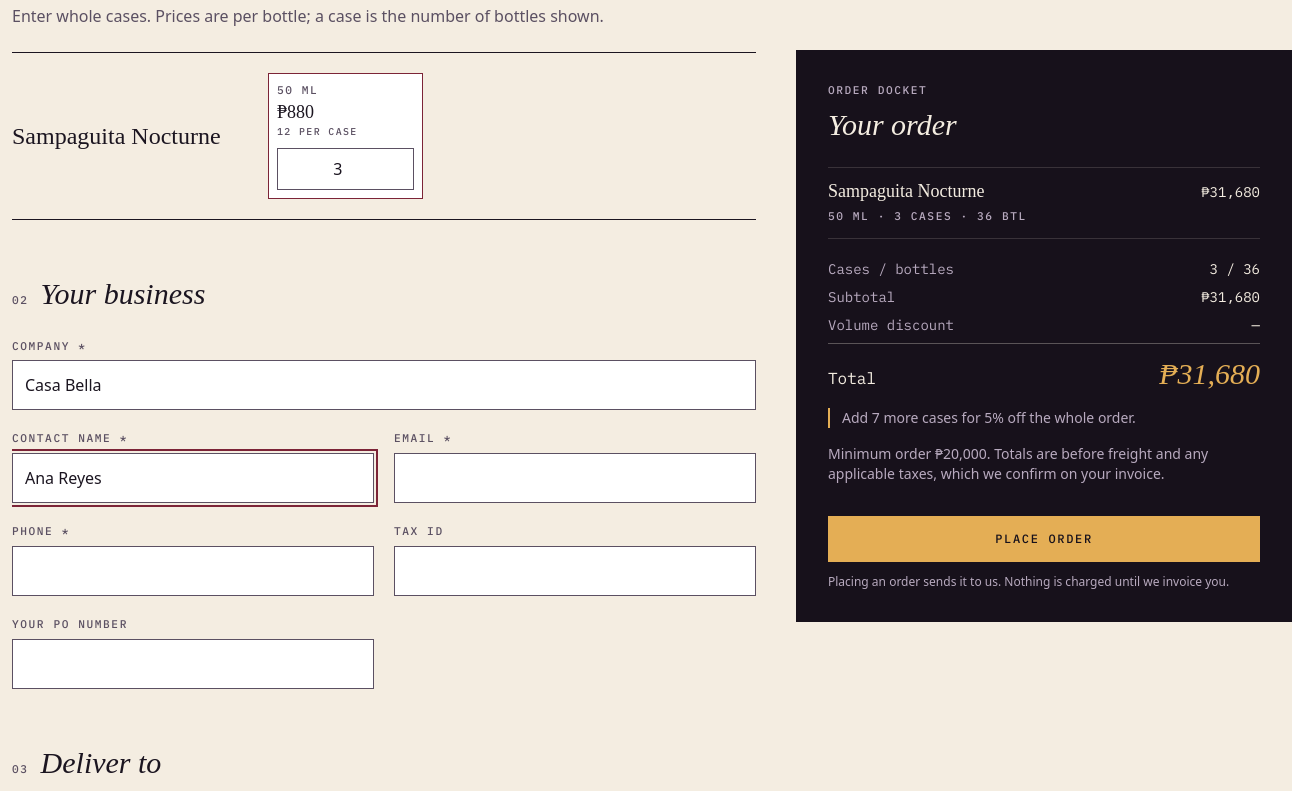
Test: OrderForm: invoice mode › keeps the original behaviour: no redirect, a confirmation that says nothing was charged
This screenshot has width=1292, height=791.
Earlier steps of the test are not shown.
In the field labelled "Email *": (575, 478) [394,453,756,503], type "ana@casabella.example"
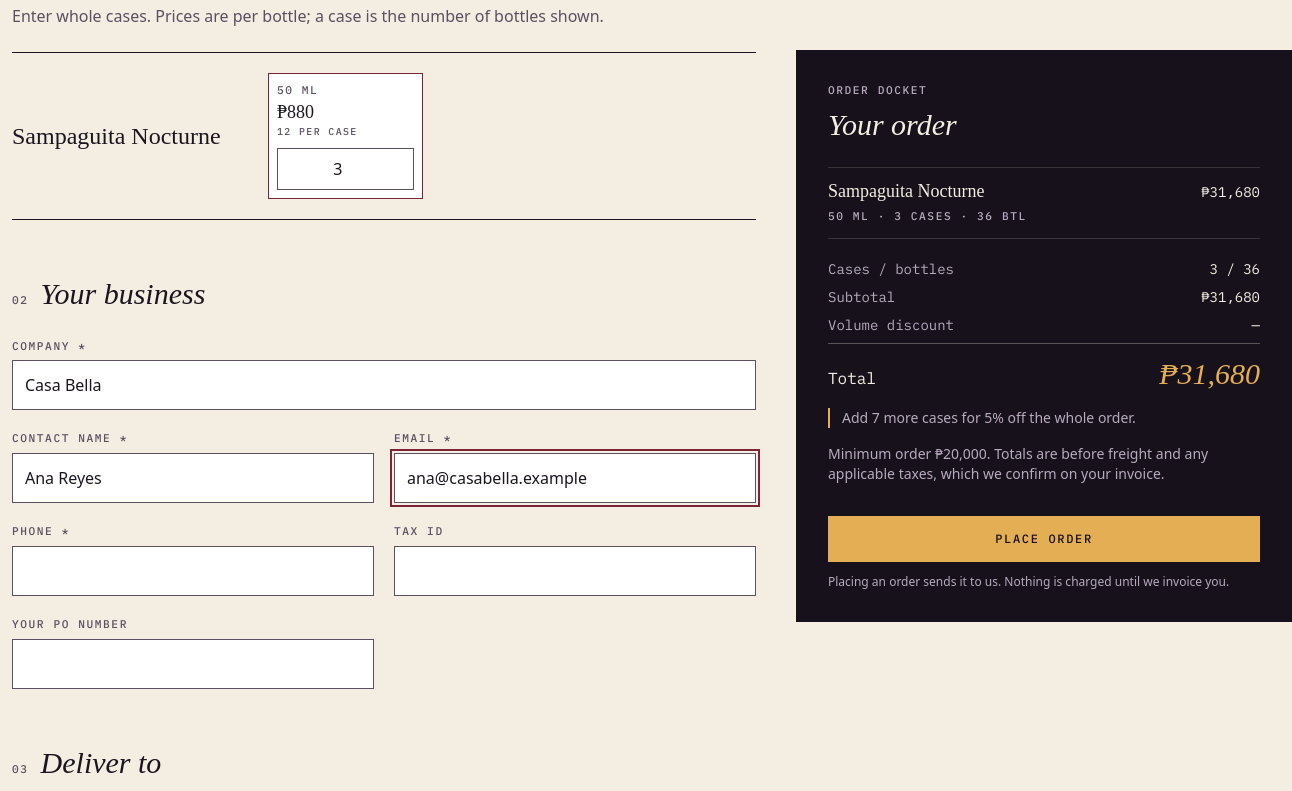
In the field labelled "Phone *": (193, 571) [12,546,374,596], type "0917 123 4567"
(page scrolled)
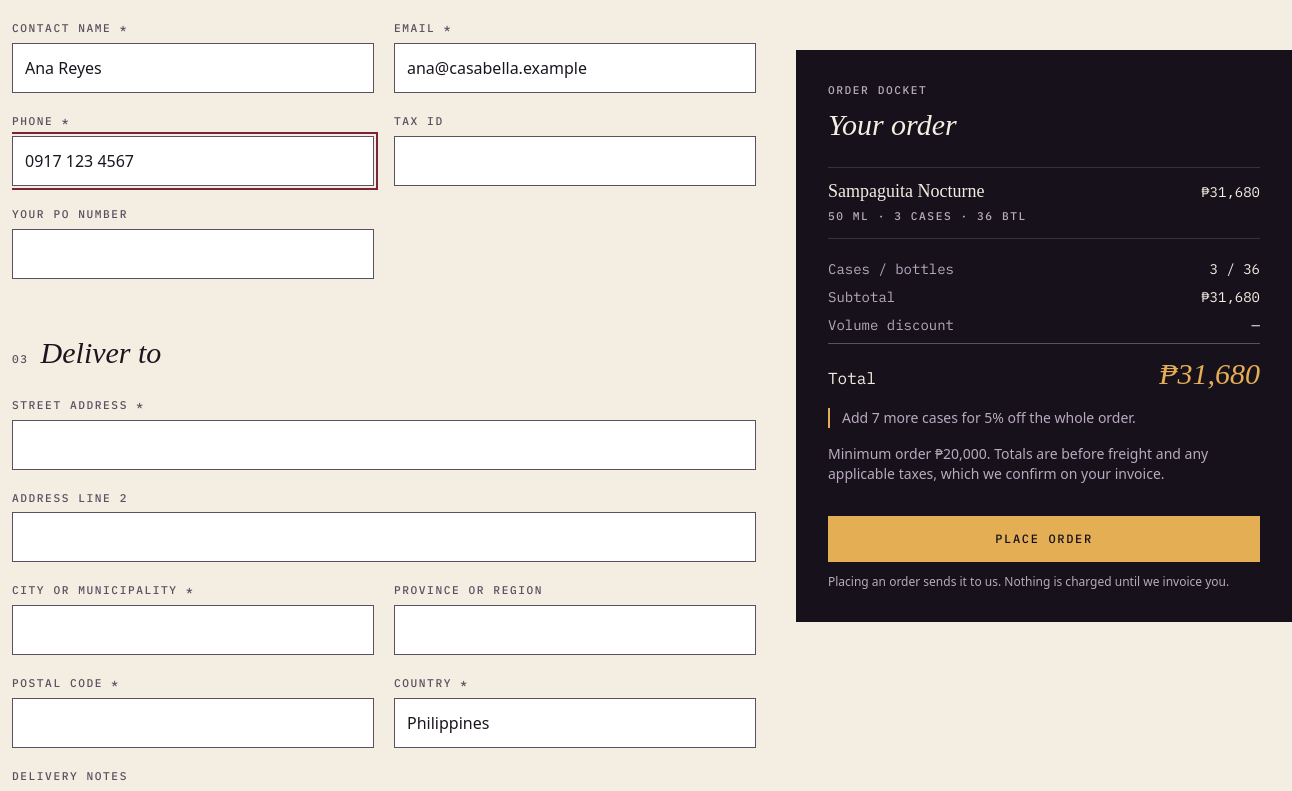
In the field labelled "Street address *": (384, 445) [12,420,756,470], type "1 Rizal St"
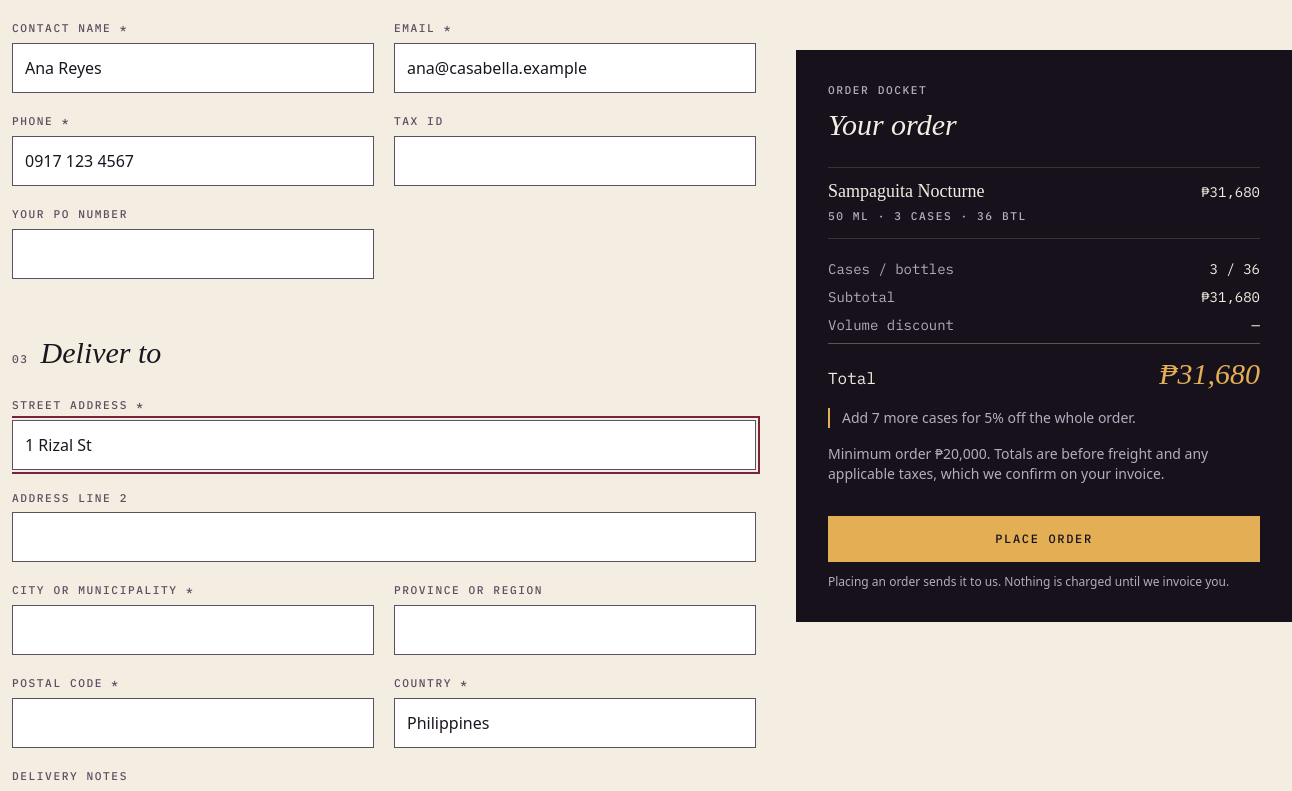
In the field labelled "City or municipality *": (193, 630) [12,605,374,655], type "Cebu City"
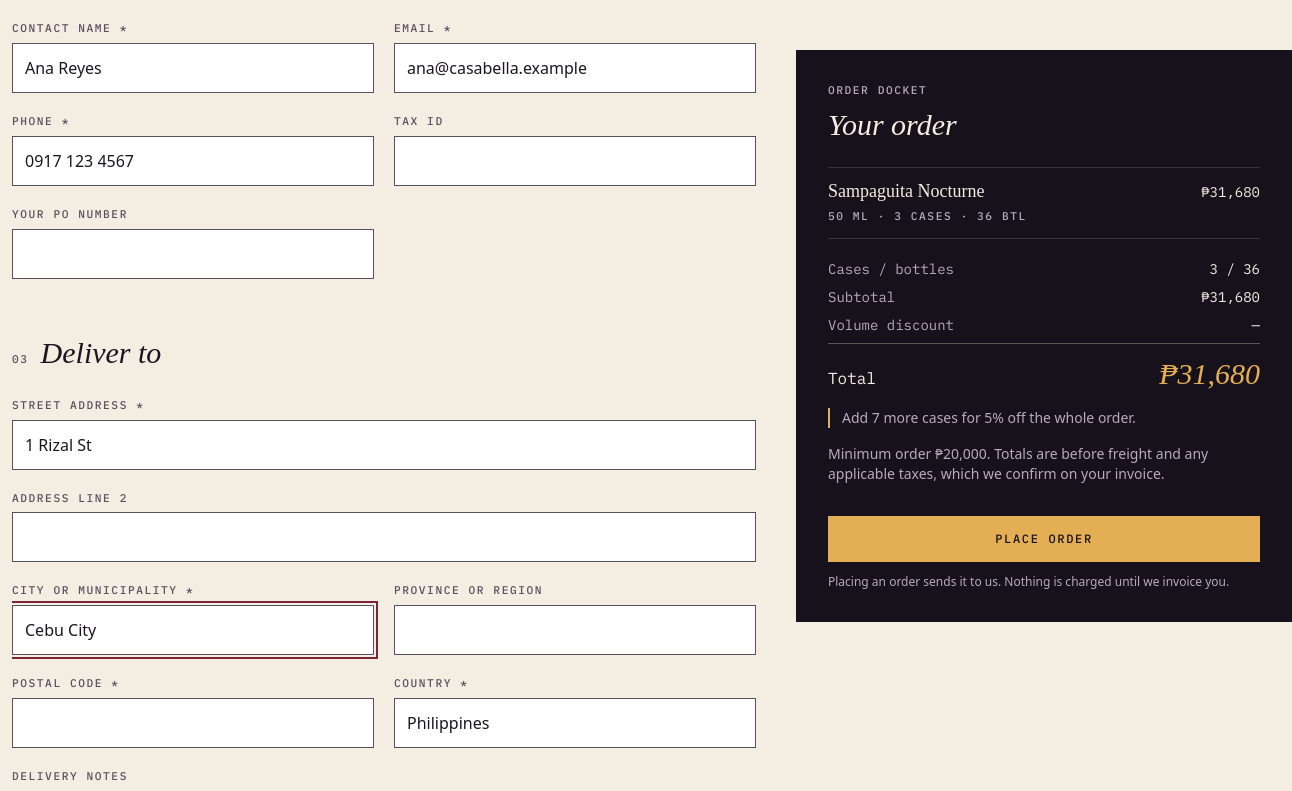
In the field labelled "Postal code *": (193, 723) [12,698,374,748], type "6000"
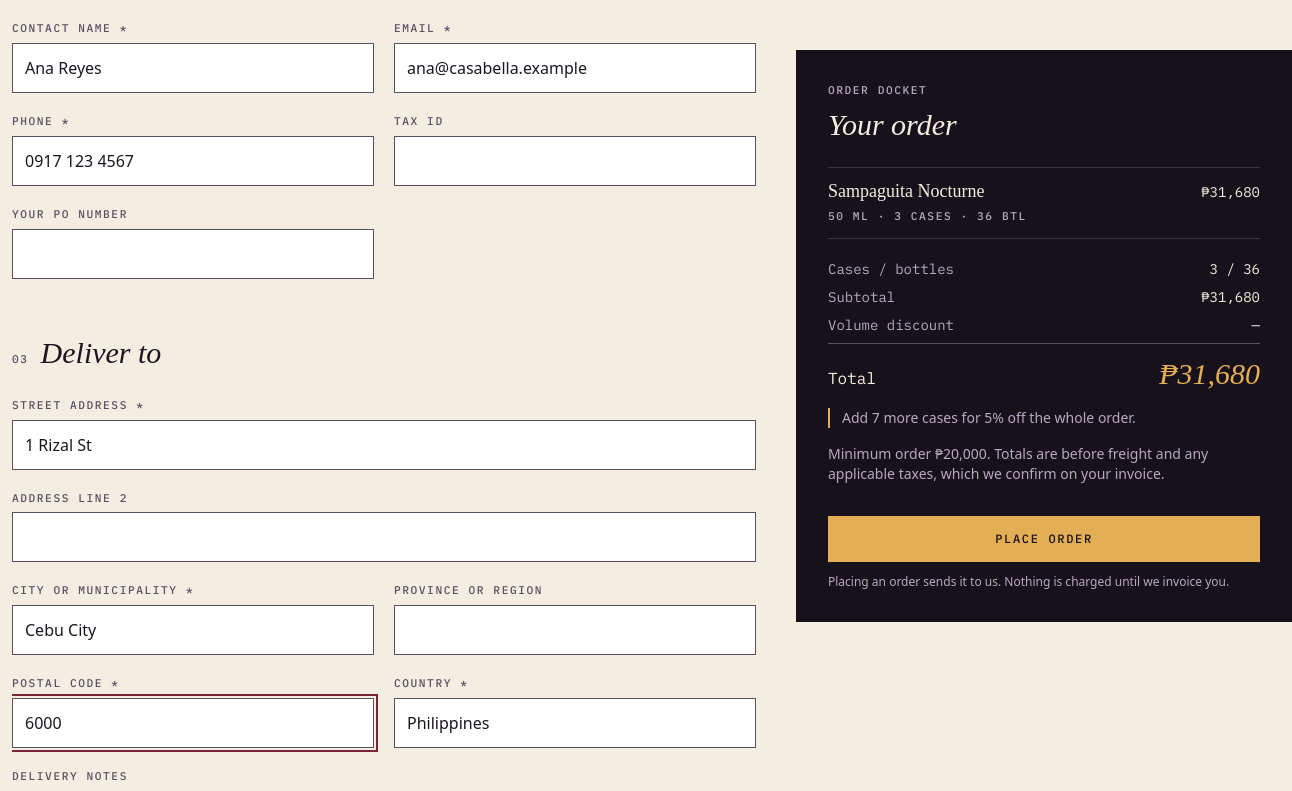
Click the button "Place order": (1044, 539) [828,516,1260,562]
(page scrolled)
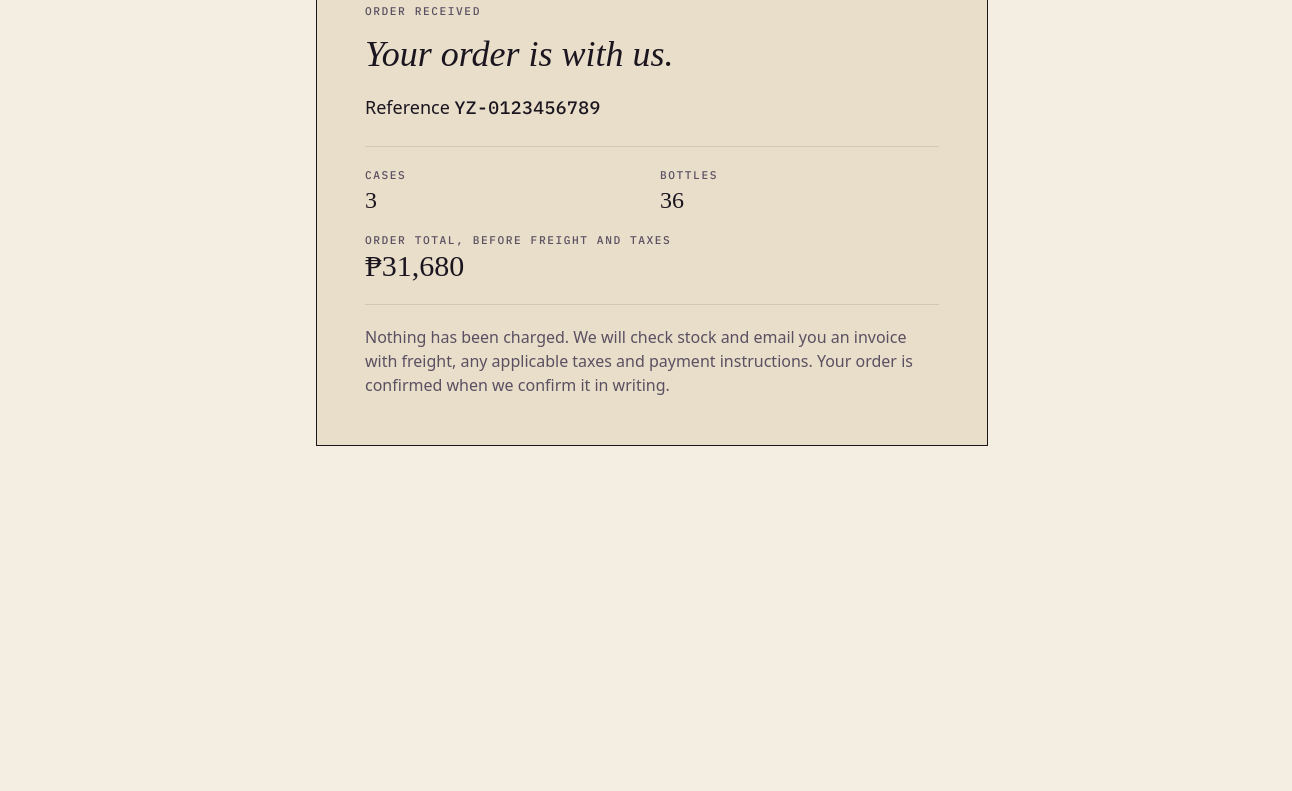
Expected: the text "Nothing has been charged" is shown, [365,326,913,396]
